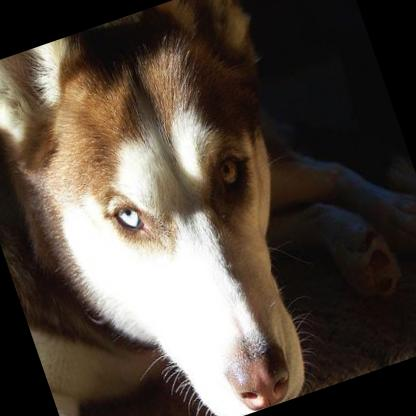Eskimo_dog: (0, 0, 389, 416)
